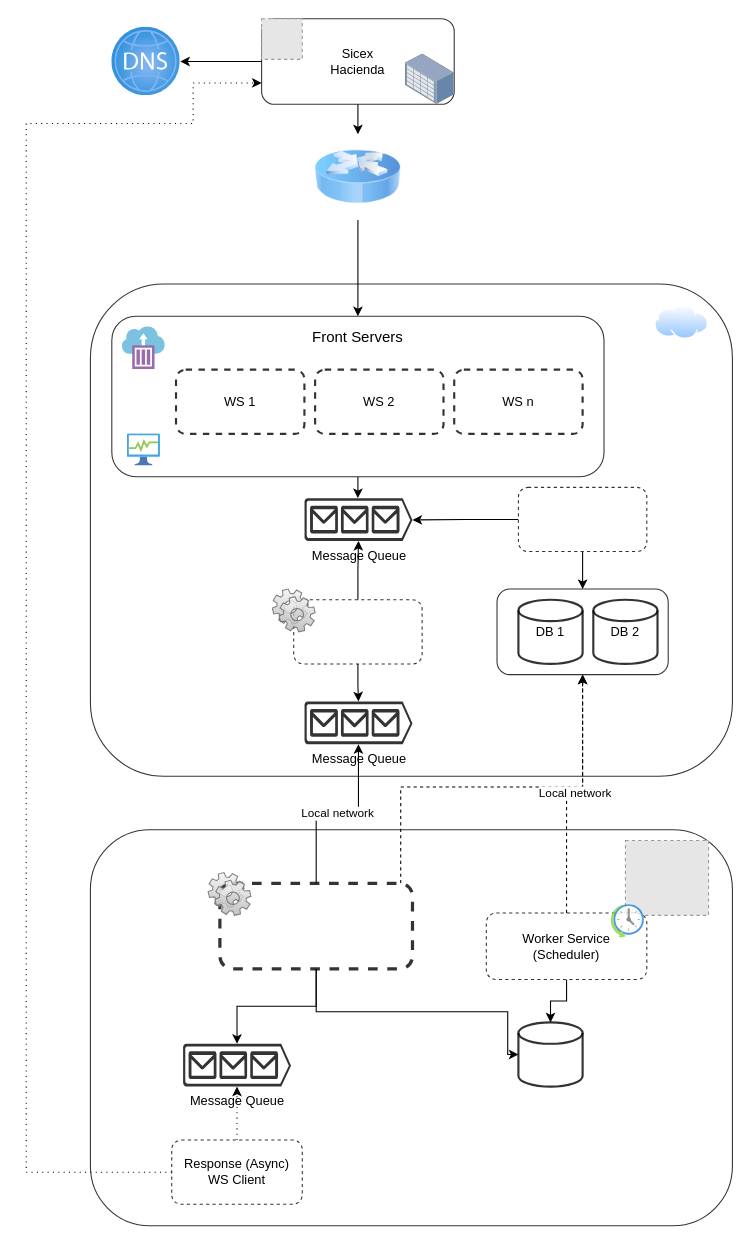
This 751x1244 diagram has some shape labels left out. Grey dashed boxes stand in for pictures. The shapes that lost their labels are listed below. From the top down, each one's box as (x1, y1, x2, y2) in pixels, then its label:
(315, 134, 400, 219): Load balancer
(517, 486, 647, 552): Notification Service
(293, 599, 422, 664): Worker Consumer
(218, 881, 414, 970): Worker Service (Event)
(517, 1021, 583, 1087): SNA
